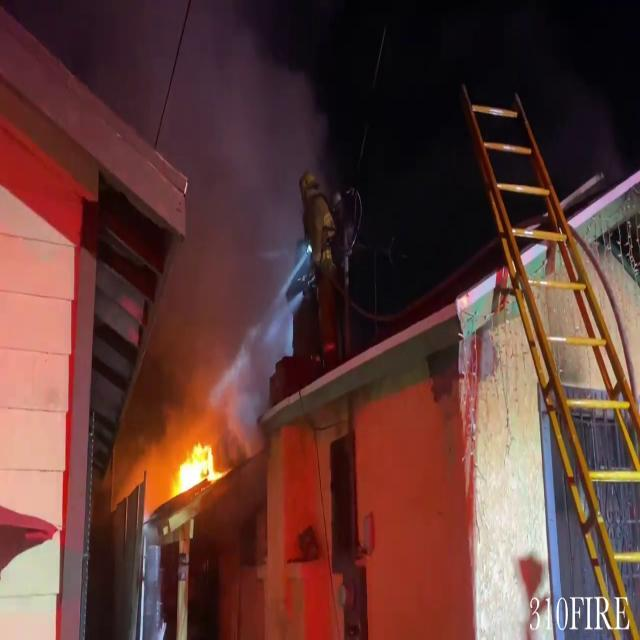Fire: (168, 433, 225, 506)
Smoke: (133, 1, 330, 416)
